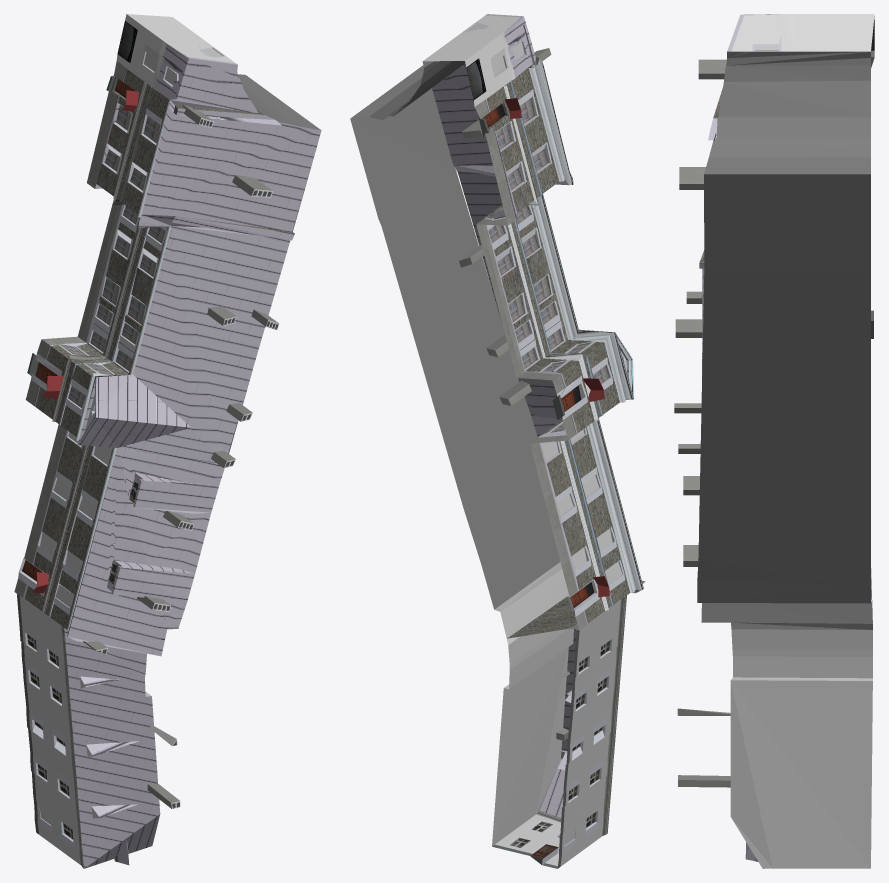
Rendered from Suur-Kloostri_18-origo.obj.
3 renders of one model, left to right at view 1: azimuth 30°, elevation 25°; view 2: azimuth 150°, elevation 25°; view 3: azimuth 270°, elevation 25°, orthographic. The views are drawn at different scales.
Parts seen in each view (by area): view 1: Suur_Kloostri_18; view 2: Suur_Kloostri_18; view 3: Suur_Kloostri_18.
Part boxes in pixels (x1,y1,x2,y2): Suur_Kloostri_18: (14,14,321,868); Suur_Kloostri_18: (350,14,645,868); Suur_Kloostri_18: (674,14,874,868).
Bounding box in the file's own units: 19.75 × 63 × 13.08.
